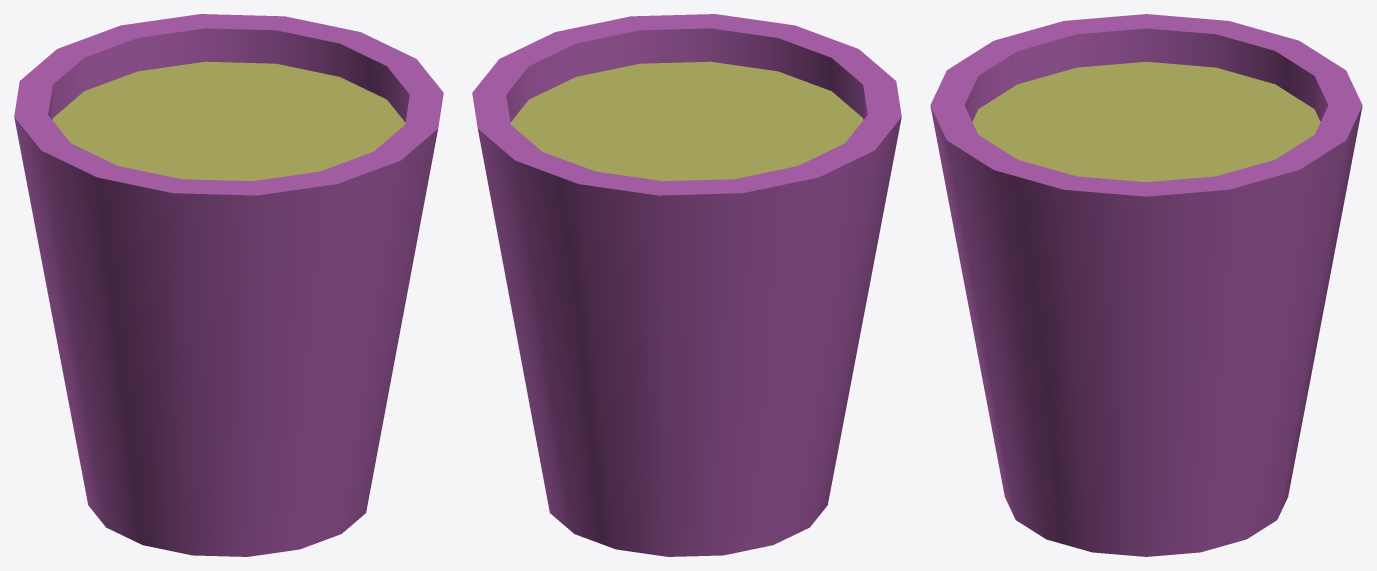
File: mesh_treepot.fbx
The picture shows the model from 3 angles, left to right: view 1: azimuth 30°, elevation 25°; view 2: azimuth 150°, elevation 25°; view 3: azimuth 270°, elevation 25°; orthographic projection.
Visible parts, largest first — view 1: cylinder; view 2: cylinder; view 3: cylinder.
Part boxes in pixels (bbox=[...]): cylinder: bbox=[14, 14, 443, 556]; cylinder: bbox=[472, 14, 901, 556]; cylinder: bbox=[930, 14, 1362, 556].
Bounding box in the file's own units: 2 × 2 × 2.
